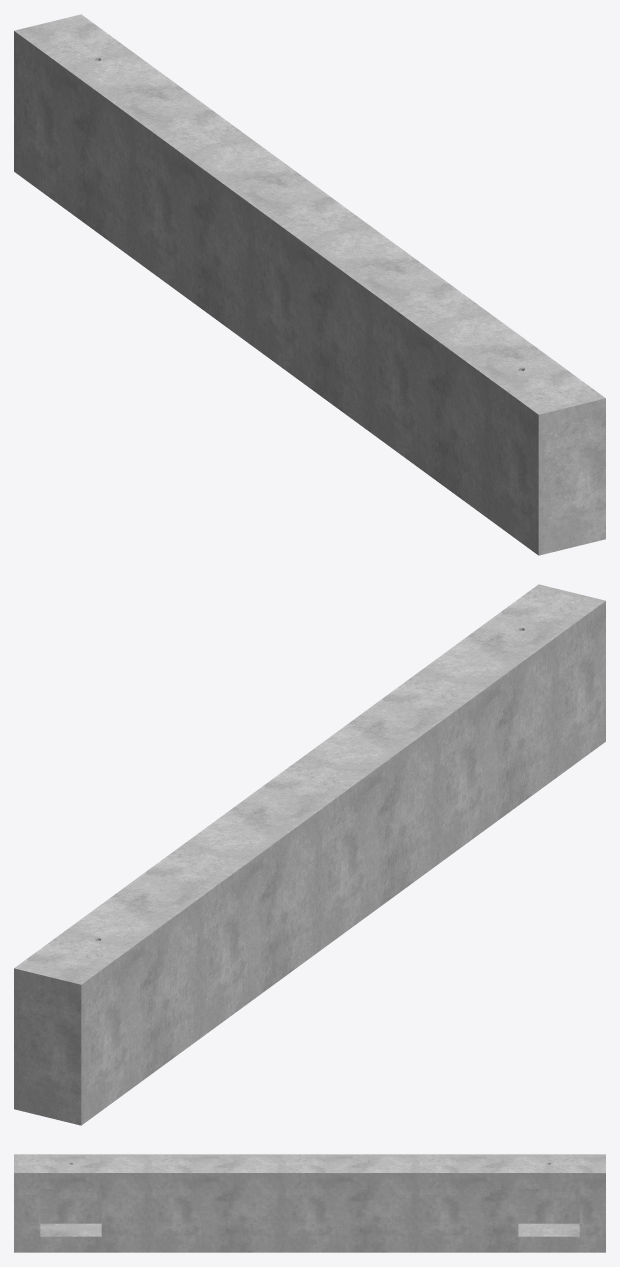
3 views of the same model, one above another, from view 1: azimuth 30°, elevation 25°; view 2: azimuth 150°, elevation 25°; view 3: azimuth 270°, elevation 25° (orthographic). The views are drawn at different scales.
Visible parts, largest first — view 1: Sloof; view 2: Sloof; view 3: Sloof.
Boxes of the visible parts, x1,y1,x2,y2 form: Sloof: (14, 14, 605, 555); Sloof: (14, 584, 605, 1125); Sloof: (14, 1154, 605, 1252).
Bounding box in the file's own units: 0.3281 × 0.6562 × 4.43.
Materials: 1 (1 with a texture image).
